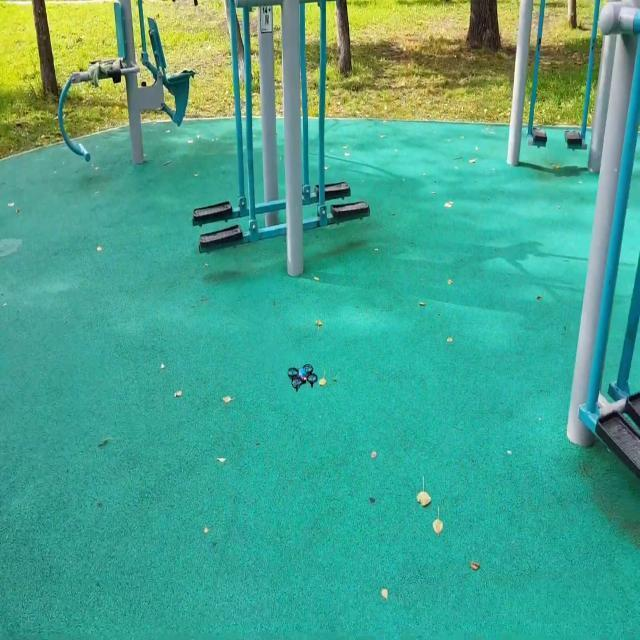Drons: (284, 360, 320, 393)
